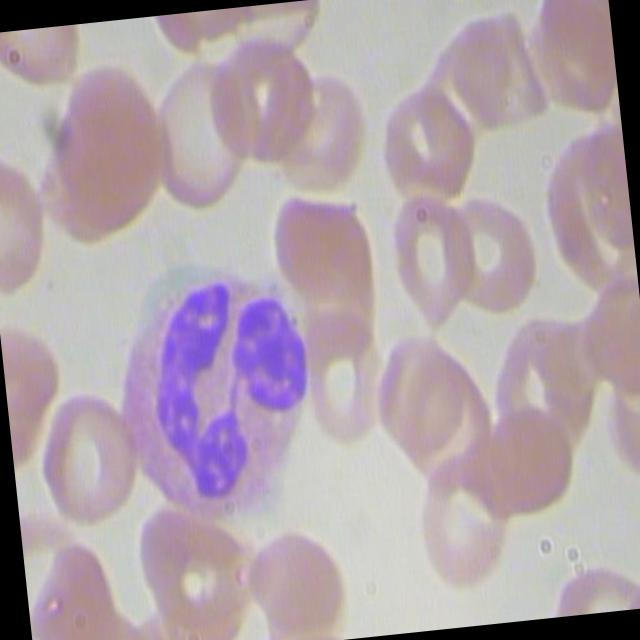RBC: (34, 373, 148, 532), (198, 27, 325, 166), (374, 72, 492, 210), (272, 64, 390, 200), (299, 291, 397, 451), (413, 446, 523, 585), (240, 508, 350, 640), (444, 184, 544, 323), (385, 190, 484, 329), (0, 141, 58, 293)
WBC: (95, 248, 342, 526)
